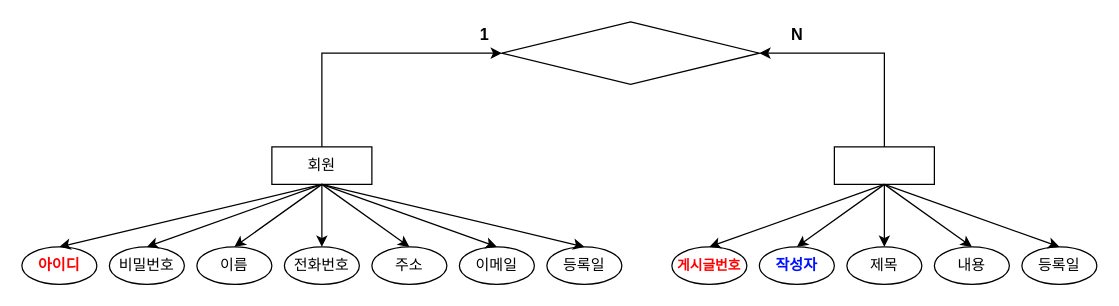
Some shapes in this 1119 by 306 pixel diagram are drawn without their labels. The centre of each missing label's shape, as x and y in pixels:
게시글: point 883,165
회원아이디:작성자아이디: point 630,52
